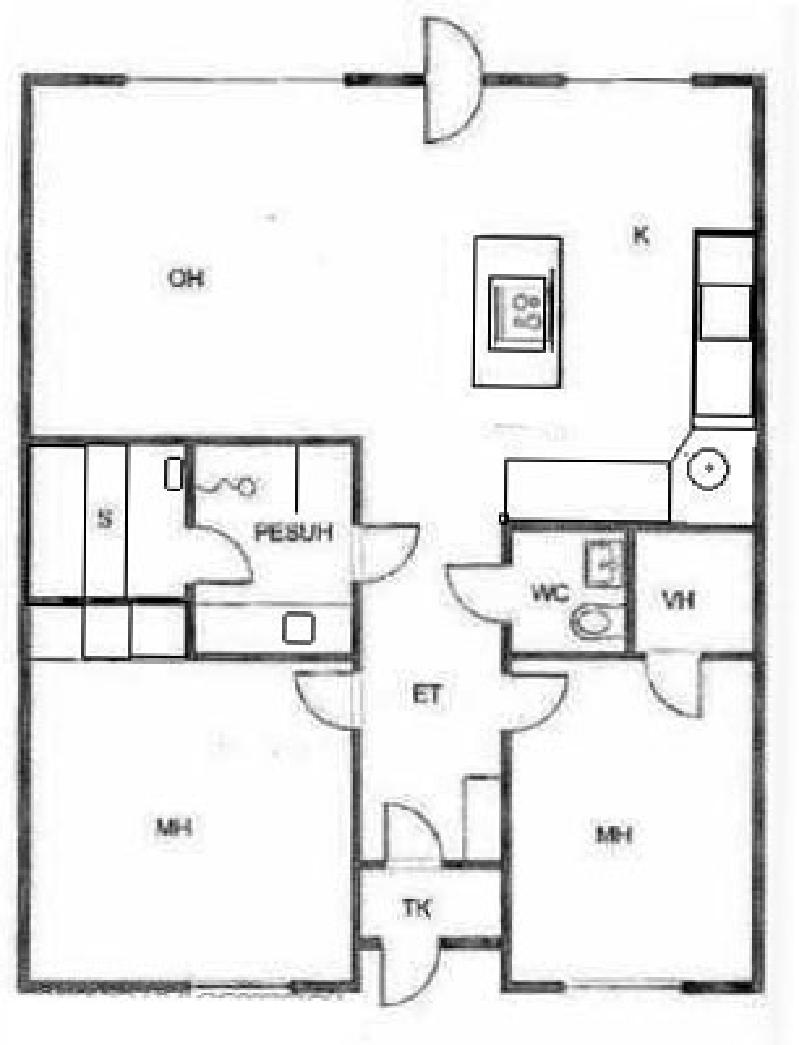door: (33, 88, 752, 859), (30, 660, 354, 979), (509, 654, 752, 977), (28, 439, 190, 654), (194, 445, 348, 654), (634, 530, 757, 650), (514, 530, 623, 653), (360, 870, 499, 935)
window: (418, 12, 487, 152), (378, 931, 445, 1006), (185, 523, 258, 589), (444, 561, 516, 627), (643, 651, 708, 724), (291, 670, 360, 731), (381, 802, 442, 867), (346, 526, 423, 577), (502, 674, 569, 732)
zone: (133, 71, 344, 92), (567, 69, 693, 87), (566, 977, 676, 995), (188, 978, 285, 996)
